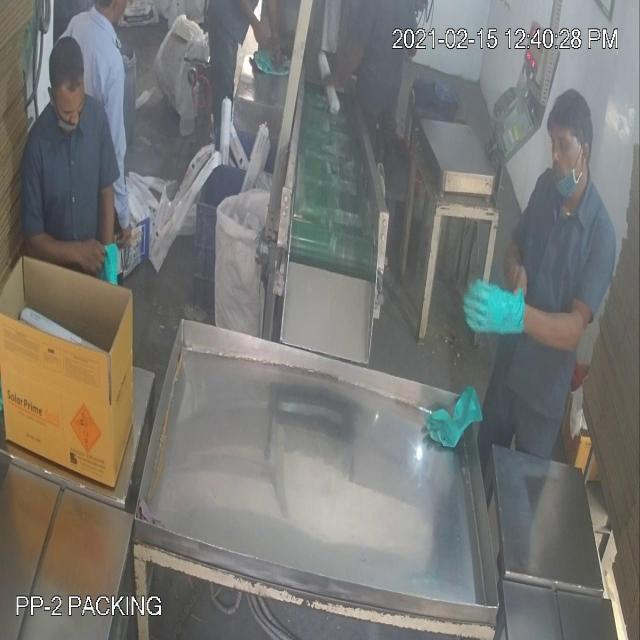No_Gloves: (54, 52, 496, 418)
